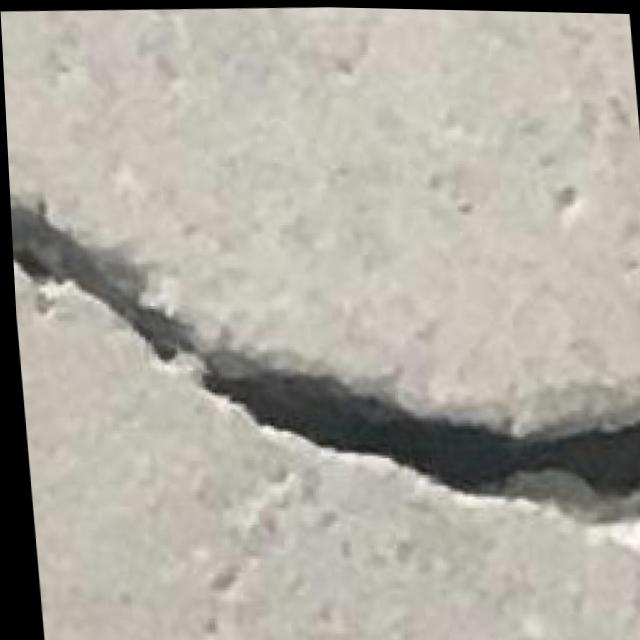Crack: (6, 153, 640, 566)
